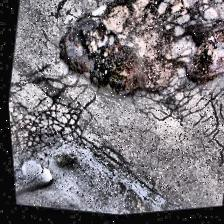pothole: (44, 5, 166, 117), (170, 18, 224, 108), (11, 162, 53, 210)
